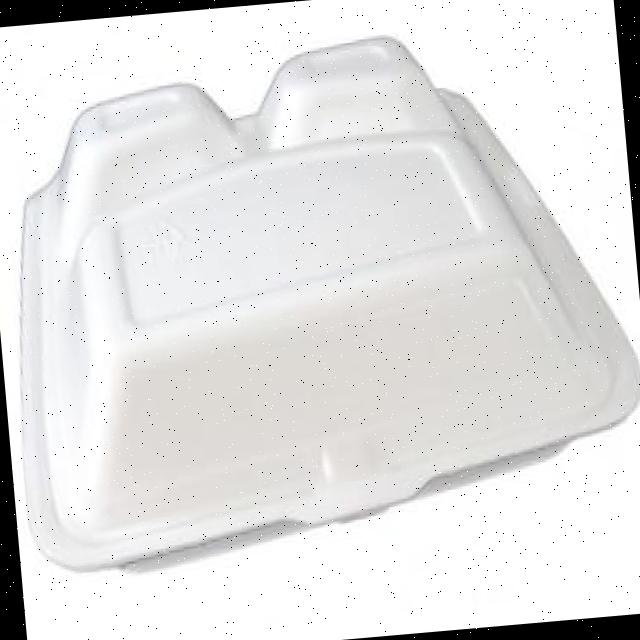styrofoam: (0, 10, 640, 582)
